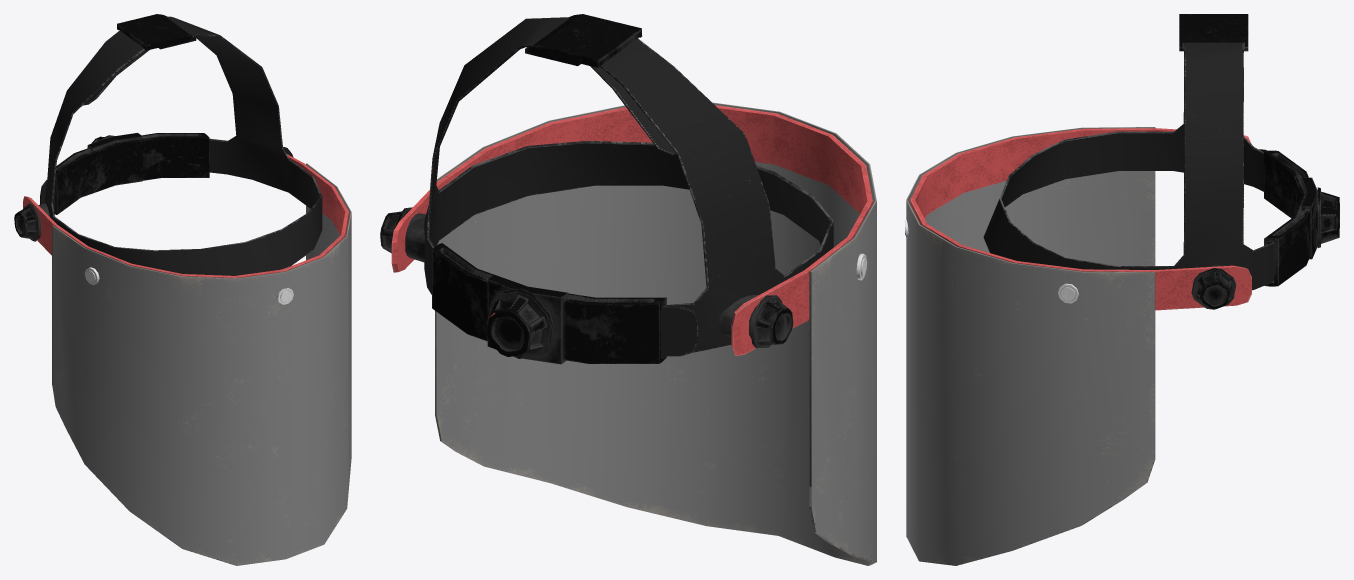
Rendered from FaceShield01.FBX.
3 views of the same model, side by side, from view 1: azimuth 30°, elevation 25°; view 2: azimuth 150°, elevation 25°; view 3: azimuth 270°, elevation 25° (orthographic). The views are drawn at different scales.
Parts seen in each view (by area): view 1: FaceShield01Glass, FaceShield01_LOD0; view 2: FaceShield01Glass, FaceShield01_LOD0; view 3: FaceShield01Glass, FaceShield01_LOD0.
Boxes of the visible parts, x1,y1,x2,y2 form: FaceShield01Glass: [52, 163, 351, 565]; FaceShield01_LOD0: [14, 14, 348, 304]; FaceShield01Glass: [435, 102, 876, 565]; FaceShield01_LOD0: [380, 14, 872, 364]; FaceShield01Glass: [906, 127, 1155, 565]; FaceShield01_LOD0: [905, 14, 1339, 310].
Size of what is drawn, in the model's own units: 19.17 by 29.55 by 22.88.
